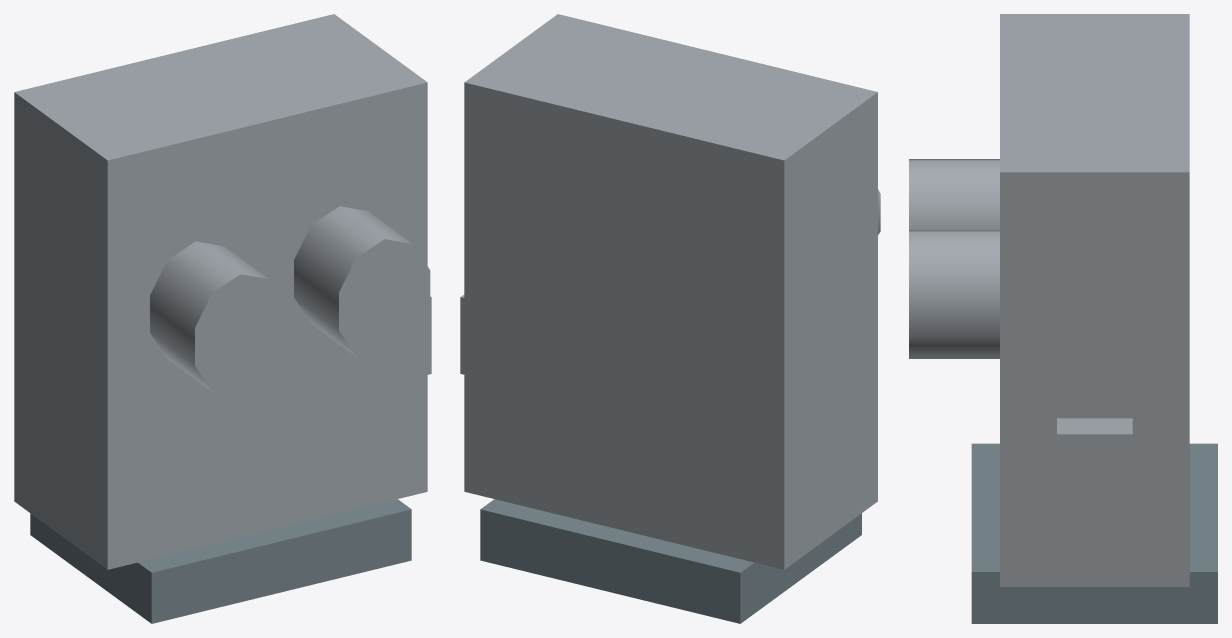
3 renders of one model, left to right at view 1: azimuth 30°, elevation 25°; view 2: azimuth 150°, elevation 25°; view 3: azimuth 270°, elevation 25°, orthographic.
Visible parts, largest first — view 1: g0, g0.004, g0.003, g0.001; view 2: g0, g0.004; view 3: g0, g0.004, g0.003, g0.002, g0.001.
Part boxes in pixels (bbox=[...]): g0: bbox=[14, 14, 427, 569]; g0.004: bbox=[30, 499, 411, 623]; g0.003: bbox=[294, 206, 430, 361]; g0.001: bbox=[150, 241, 286, 396]; g0: bbox=[464, 14, 877, 569]; g0.004: bbox=[480, 499, 861, 623]; g0: bbox=[1000, 14, 1189, 586]; g0.004: bbox=[971, 443, 1217, 623]; g0.003: bbox=[909, 230, 999, 358]; g0.002: bbox=[1057, 418, 1132, 511]; g0.001: bbox=[909, 159, 999, 230].
Size of the model in its own units: 0.16 by 0.2 by 0.12.
